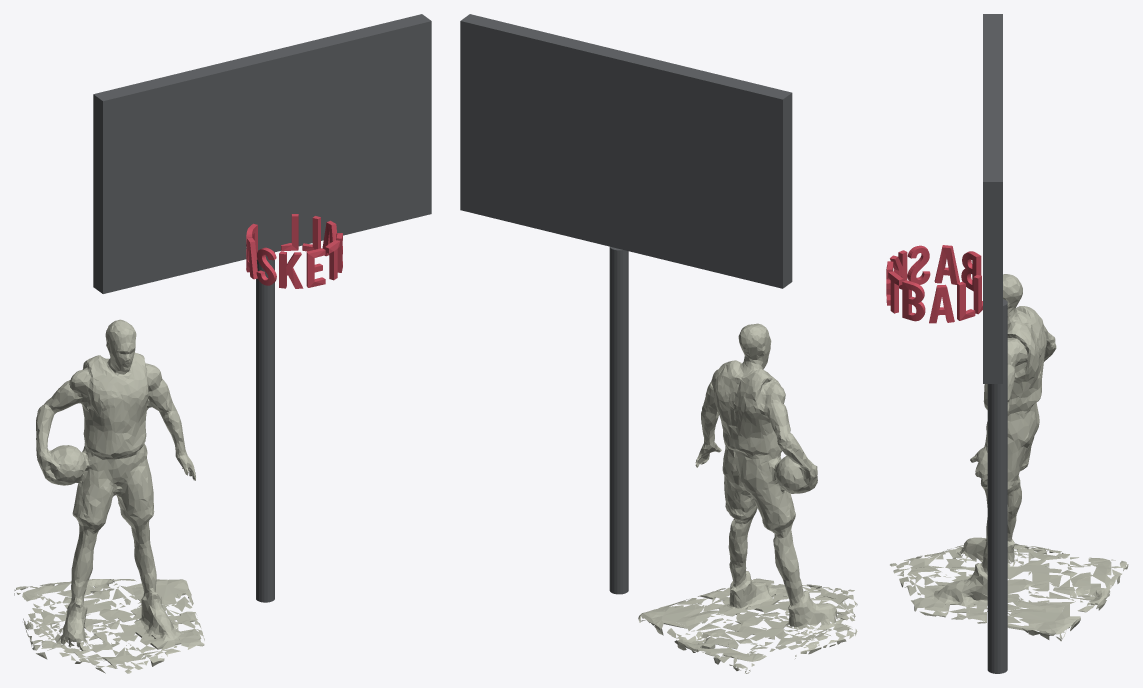
3 renders of one model, left to right at view 1: azimuth 30°, elevation 25°; view 2: azimuth 150°, elevation 25°; view 3: azimuth 270°, elevation 25°, orthographic. The views are drawn at different scales.
Visible parts, largest first — view 1: Mesh_Mesh_head_geo.001_lambert2SG.001; view 2: Mesh_Mesh_head_geo.001_lambert2SG.001; view 3: Mesh_Mesh_head_geo.001_lambert2SG.001.
Boxes of the visible parts, <box> form: Mesh_Mesh_head_geo.001_lambert2SG.001: <box>14,14,431,673</box>; Mesh_Mesh_head_geo.001_lambert2SG.001: <box>460,14,857,673</box>; Mesh_Mesh_head_geo.001_lambert2SG.001: <box>886,14,1128,673</box>.
Bounding box in the file's own units: 23.55 × 31 × 11.95.
